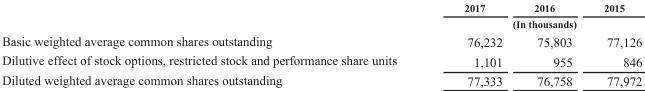table: (1, 1, 641, 87)
table column: (1, 1, 429, 87), (429, 1, 517, 87), (517, 1, 587, 87), (587, 1, 641, 87)
table column header: (1, 1, 641, 31)
table row: (1, 50, 641, 70), (1, 31, 641, 50), (1, 70, 641, 87), (1, 15, 641, 31), (1, 1, 641, 15)
table spanning cell: (429, 15, 641, 31)
